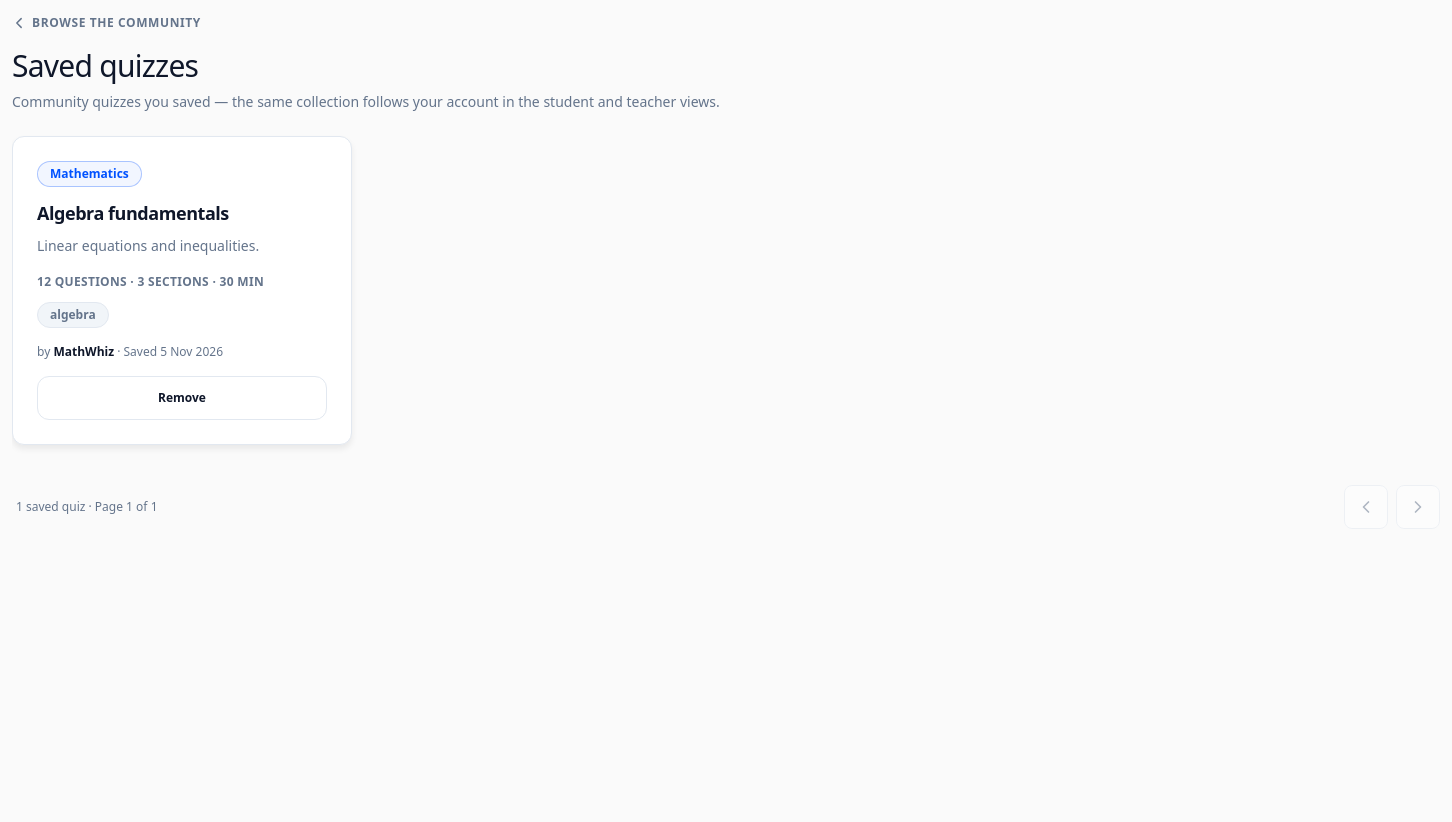
it: /community/bookmarks › surfaces the 'no longer available' copy when a remove hits a 404
Click the button "Remove".
click(182, 398)  # box top-left (37, 376), bottom-right (327, 420)
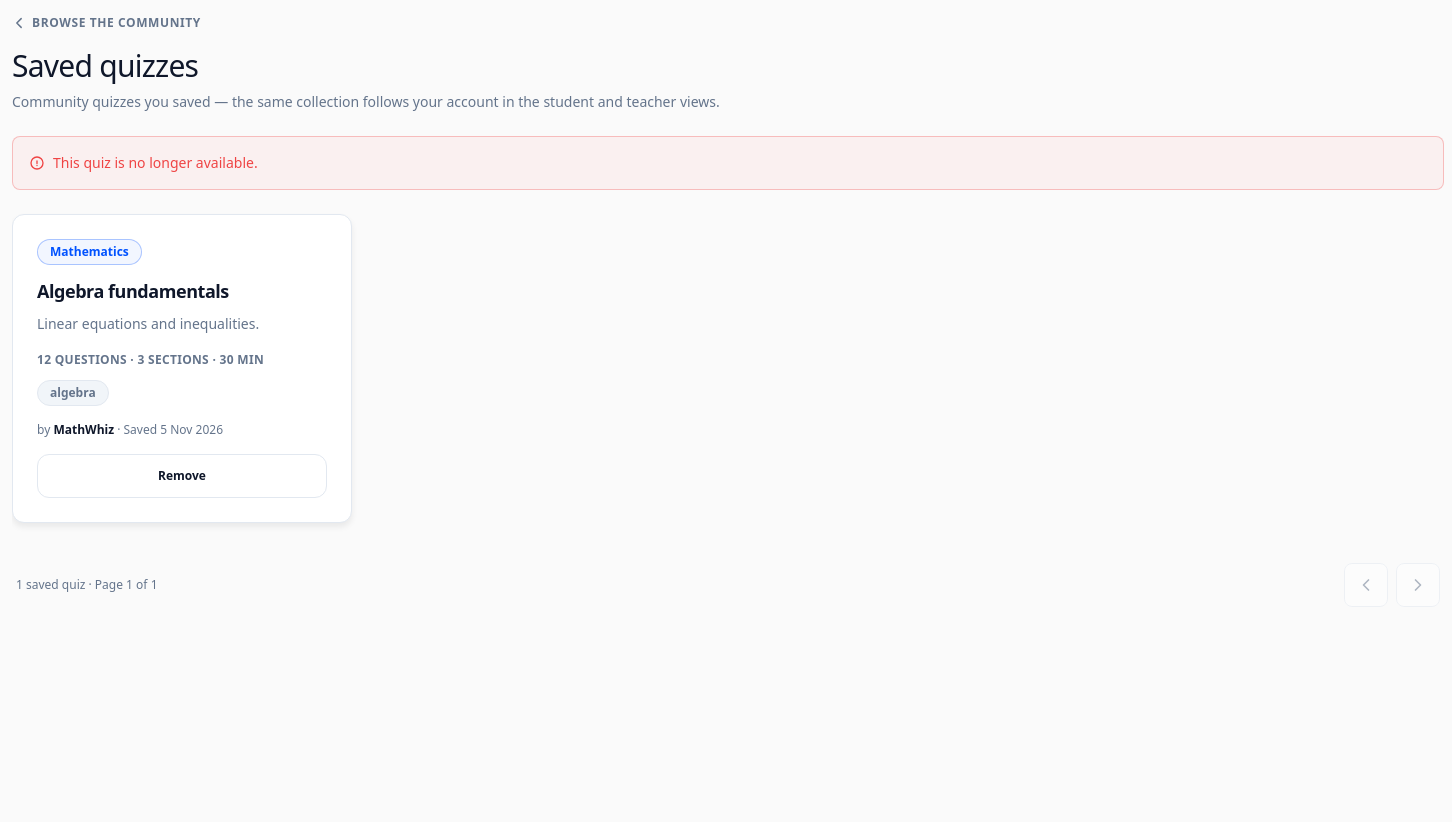
Now the message shows "no longer available", box top-left (53, 153), bottom-right (258, 172)
